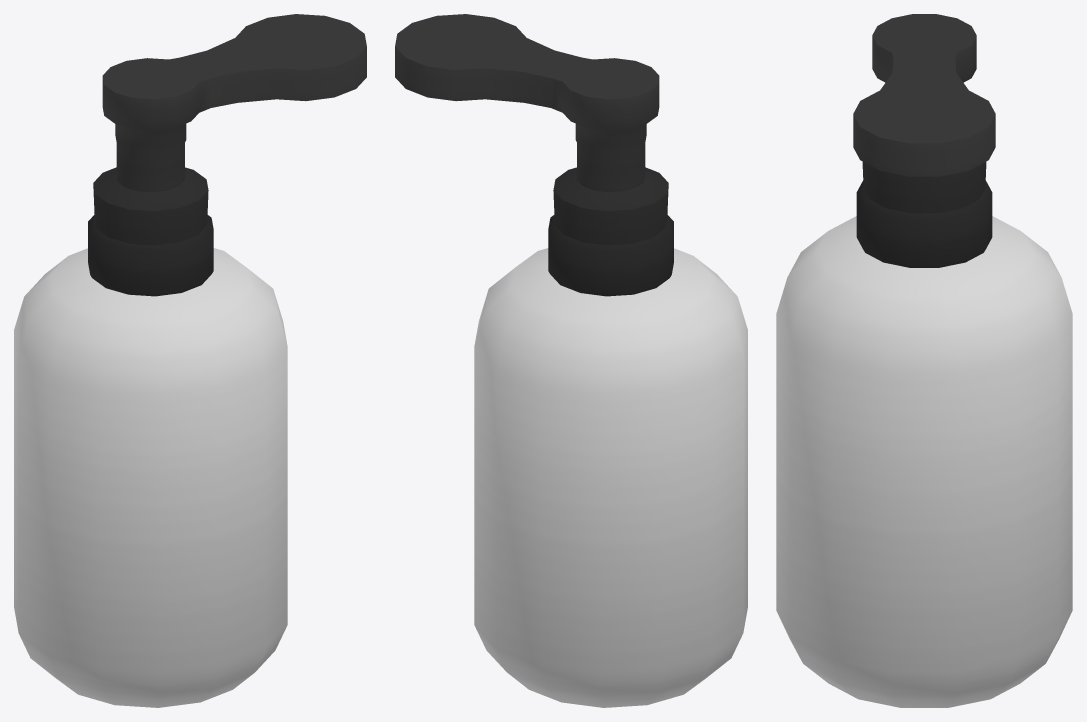
The model's file is hand_wash_bottle_free_model.glb.
The picture shows the model from 3 angles, left to right: view 1: azimuth 30°, elevation 25°; view 2: azimuth 150°, elevation 25°; view 3: azimuth 270°, elevation 25°; orthographic projection. The views are drawn at different scales.
Parts seen in each view (by area): view 1: HandWash_Bottle; view 2: HandWash_Bottle; view 3: HandWash_Bottle.
Boxes of the visible parts, x1,y1,x2,y2 form: HandWash_Bottle: [14, 14, 366, 707]; HandWash_Bottle: [395, 14, 747, 707]; HandWash_Bottle: [776, 14, 1072, 707].
Size of the model in its own units: 1.14 by 1.97 by 0.8424.
1 material, 1 textured.
